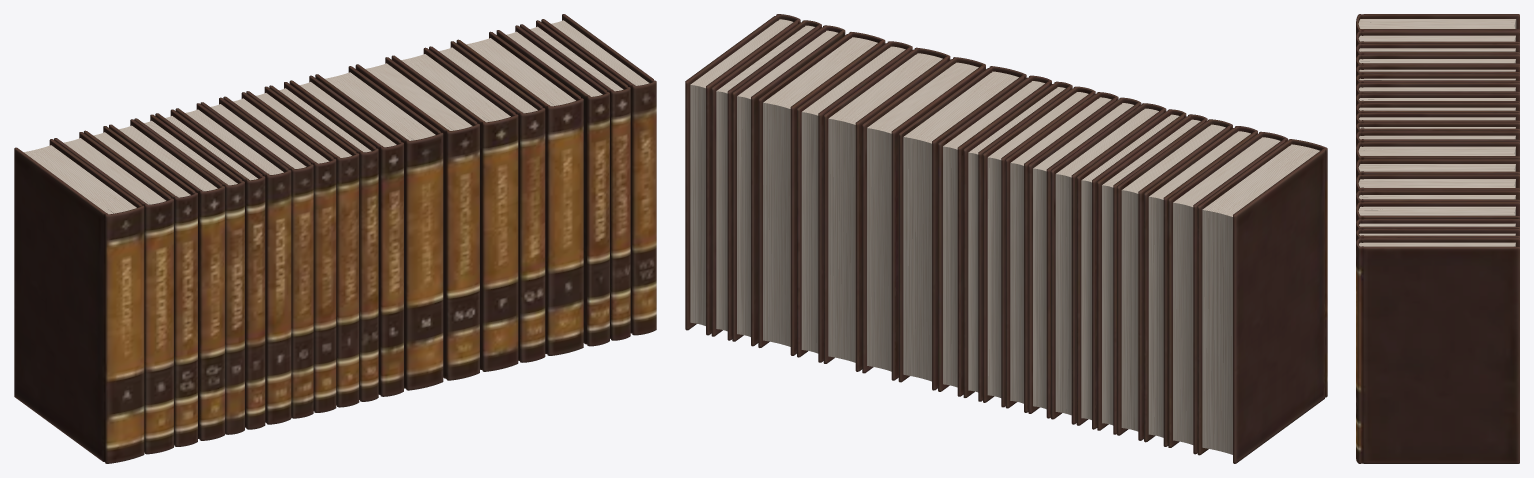
File: book_encyclopedia_set_01.glb
The picture shows the model from 3 angles, left to right: view 1: azimuth 30°, elevation 25°; view 2: azimuth 150°, elevation 25°; view 3: azimuth 270°, elevation 25°; orthographic projection. The views are drawn at different scales.
Parts seen in each view (by area): view 1: book_encyclopedia_set_01_book01; view 2: book_encyclopedia_set_01_book01; view 3: book_encyclopedia_set_01_book01.
Boxes of the visible parts, <box> form: book_encyclopedia_set_01_book01: <box>14,14,656,463</box>; book_encyclopedia_set_01_book01: <box>685,14,1327,463</box>; book_encyclopedia_set_01_book01: <box>1356,14,1519,463</box>.
Bounding box in the file's own units: 0.5513 × 0.2374 × 0.1631.
2 materials, 2 textured.
